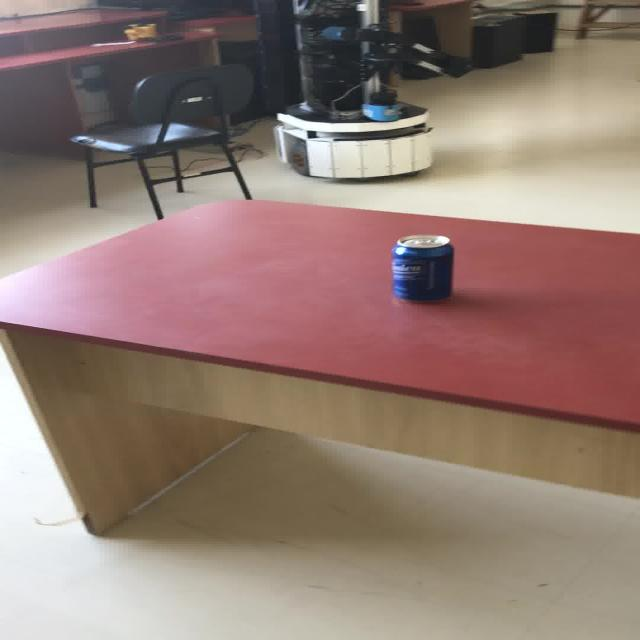tonic: (389, 234, 454, 301)
